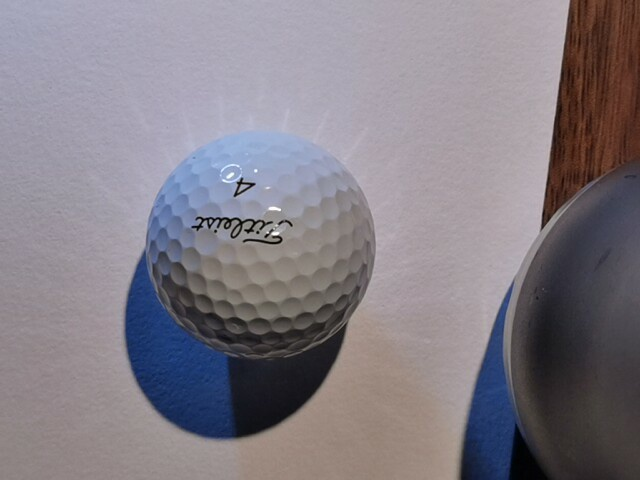Ball: (145, 130, 377, 362)
Titleist: (191, 216, 293, 245)
